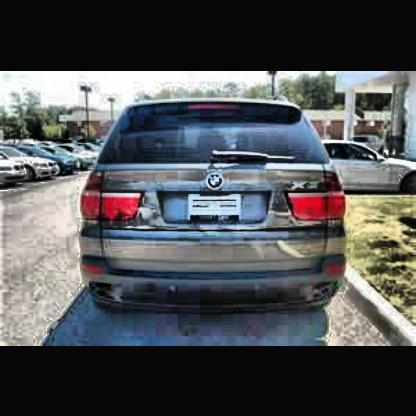BMW X5 SUV 2007: (58, 76, 382, 336)
